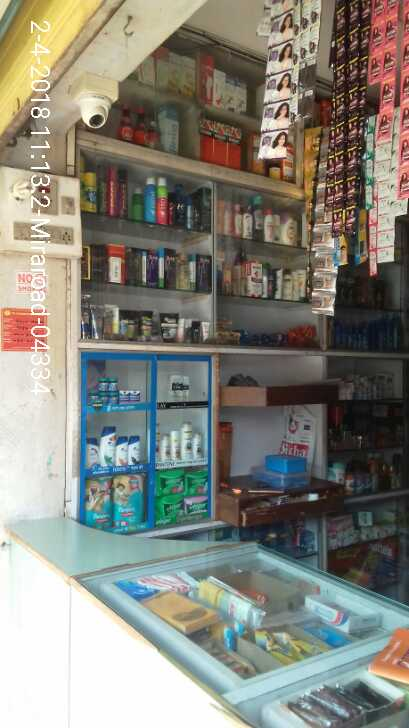vicks: (87, 376, 144, 409)
